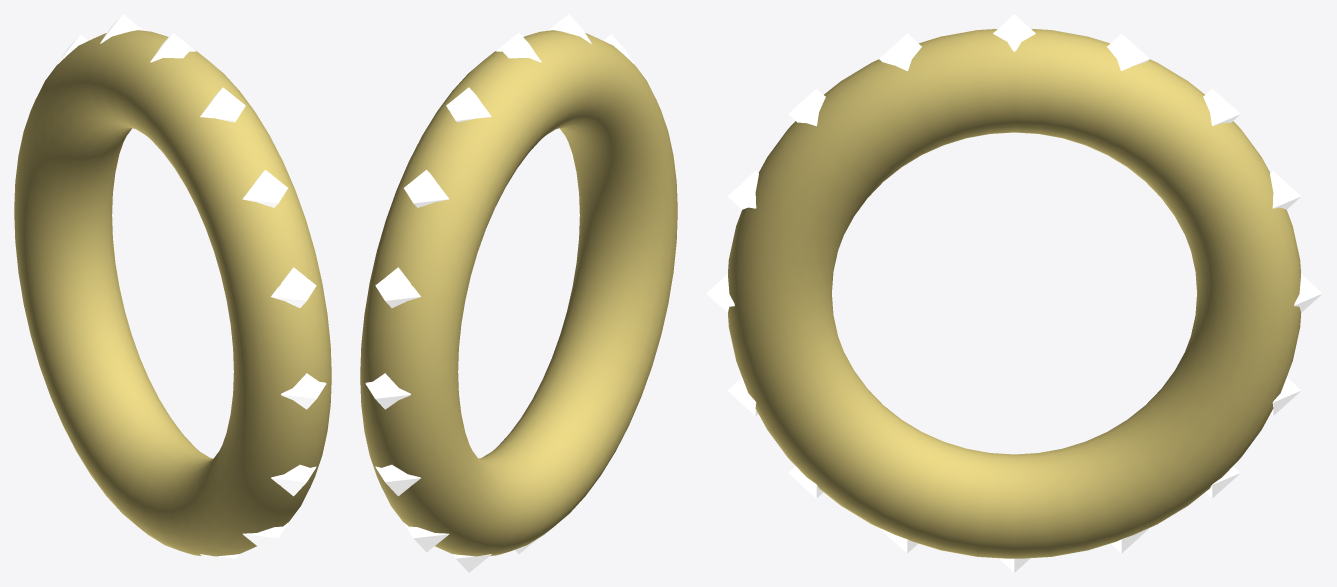
File: shyn-prod-1.glb
3 renders of one model, left to right at view 1: azimuth 30°, elevation 25°; view 2: azimuth 150°, elevation 25°; view 3: azimuth 270°, elevation 25°, orthographic. The views are drawn at different scales.
Visible parts, largest first — view 1: part (×9); view 2: part (×9); view 3: part (×6).
Part boxes in pixels (box(x1,y1,x2,y2)): part (×9): box(14, 14, 331, 556); part (×9): box(360, 14, 677, 556); part (×6): box(728, 14, 1300, 558).
Bounding box in the file's own units: 0.026 × 0.152 × 0.152.
